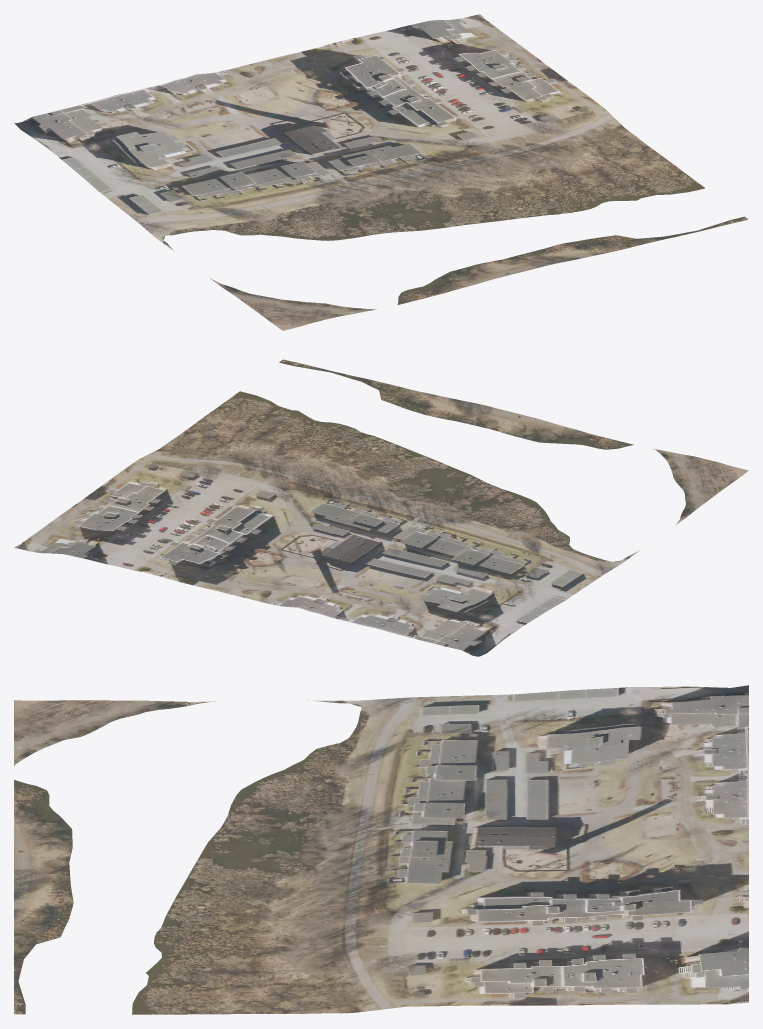
The model's file is CM_Terrain_24488615_6819999.fbx.
The picture shows the model from 3 angles, top to bottom: view 1: azimuth 30°, elevation 25°; view 2: azimuth 150°, elevation 25°; view 3: azimuth 270°, elevation 25°; orthographic projection. The views are drawn at different scales.
Parts seen in each view (by area): view 1: CM_Terrain_24488615_6819999_LOD0; view 2: CM_Terrain_24488615_6819999_LOD0; view 3: CM_Terrain_24488615_6819999_LOD0.
Part boxes in pixels (<box>): CM_Terrain_24488615_6819999_LOD0: <box>14,14,748,330</box>; CM_Terrain_24488615_6819999_LOD0: <box>14,359,748,656</box>; CM_Terrain_24488615_6819999_LOD0: <box>14,685,748,1014</box>.
Size of what is drawn, in the model's own units: 205 by 7.99 by 205.
